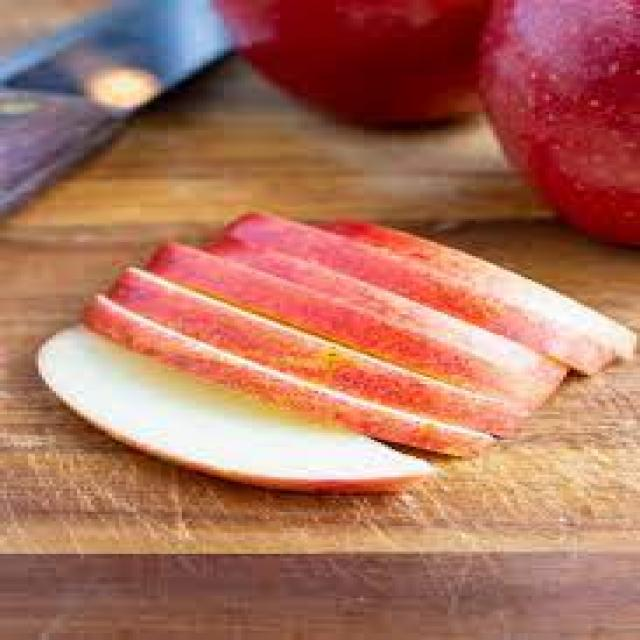Apple: (95, 216, 570, 450), (38, 333, 430, 494), (337, 217, 640, 359)
